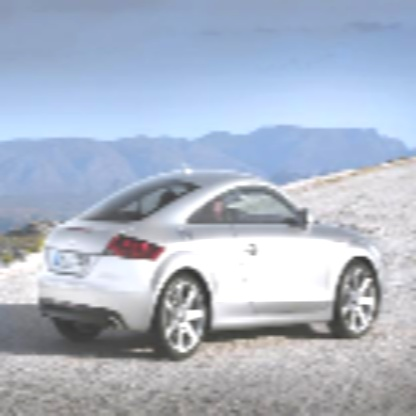Vehicle: (36, 163, 386, 362)
